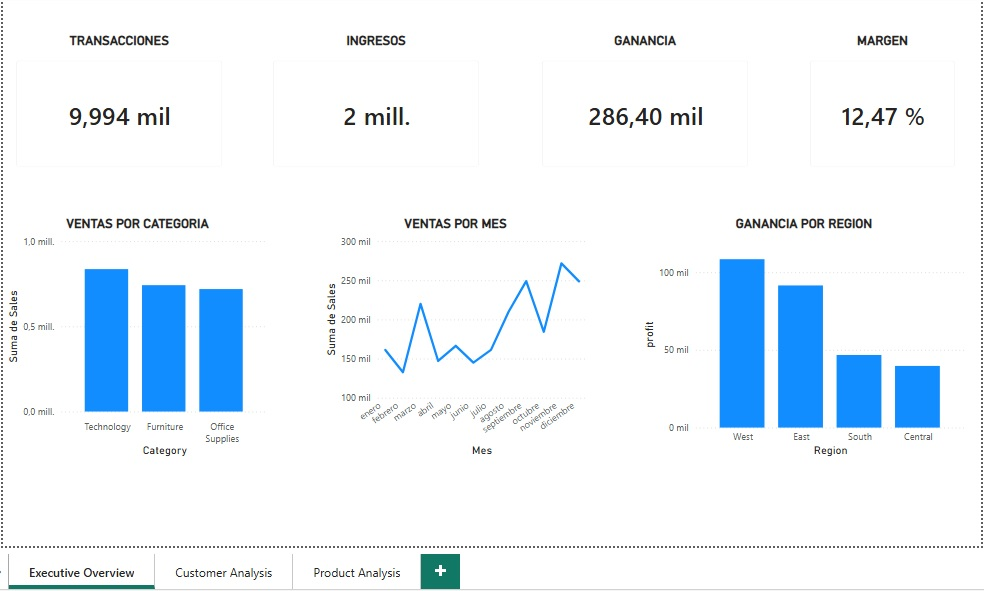

This screenshot's page, from the dashboard's own definition file:
{"tool":"powerbi","page":{"name":"Executive Overview","canvas":[1280,720],"ordinal":0},"visuals":[{"type":"cardVisual","title":"GANANCIA","fields":{"Data":["Medidas.profit"]},"box":[688,48,304,192],"z":0},{"type":"cardVisual","title":"INGRESOS","fields":{"Data":["Medidas.Revenue"]},"box":[336,48,304,192],"z":1},{"type":"cardVisual","title":"MARGEN","fields":{"Data":["Medidas.Margin"]},"box":[1040,48,224,192],"z":3},{"type":"cardVisual","title":"TRANSACCIONES","fields":{"Data":["Medidas.Rows"]},"box":[0,48,304,192],"z":4},{"type":"clusteredColumnChart","title":"VENTAS POR CATEGORIA","fields":{"Y":["Sum(Sample Superstore.Sales)"],"Category":["Sample Superstore.Category"]},"box":[0,288,352,320],"z":5},{"type":"lineChart","title":"VENTAS POR MES","fields":{"Category":["Sample Superstore.Order Date.Variación.Jerarquía de fechas.Mes"],"Y":["Sum(Sample Superstore.Sales)"]},"box":[416,288,352,320],"z":6},{"type":"clusteredColumnChart","title":"GANANCIA POR REGION","fields":{"Category":["Sample Superstore.Region"],"Y":["Medidas.profit"]},"box":[832,288,432,320],"z":7}]}

Visuals, with their boxes on the page's 1280x720 design canvas (x1, y1, x2, y2). These are canvas units, not pixel positions in the 984x591 screenshot, which may show the page scaled, cropped or inside an application window:
"GANANCIA" cardVisual: (x1=688, y1=48, x2=992, y2=240)
"INGRESOS" cardVisual: (x1=336, y1=48, x2=640, y2=240)
"MARGEN" cardVisual: (x1=1040, y1=48, x2=1264, y2=240)
"TRANSACCIONES" cardVisual: (x1=0, y1=48, x2=304, y2=240)
"VENTAS POR CATEGORIA" clusteredColumnChart: (x1=0, y1=288, x2=352, y2=608)
"VENTAS POR MES" lineChart: (x1=416, y1=288, x2=768, y2=608)
"GANANCIA POR REGION" clusteredColumnChart: (x1=832, y1=288, x2=1264, y2=608)
